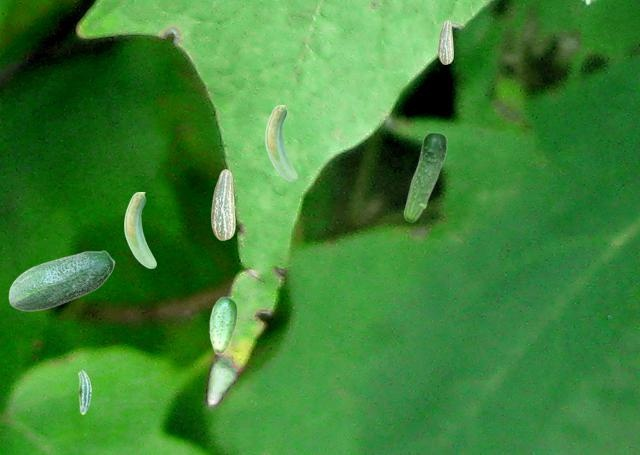cucumber: (8, 250, 114, 310), (403, 132, 446, 221), (265, 105, 296, 180), (124, 192, 155, 267), (211, 169, 234, 239), (209, 296, 236, 353), (438, 20, 452, 63), (78, 370, 90, 413)
